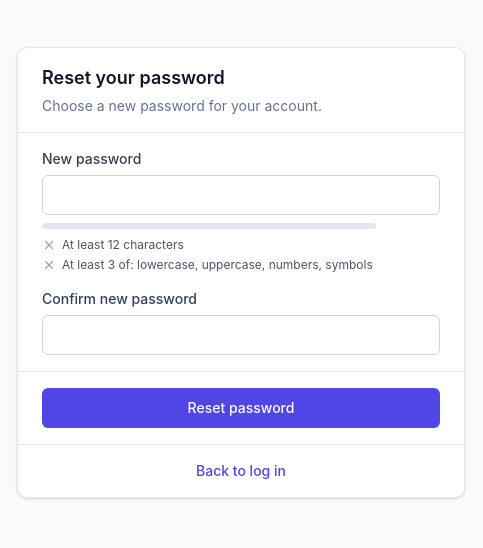
Test case: ResetPasswordPage › TC-14: an expired token shows "expired or invalid"
This screenshot has width=483, height=548.
Type "CorrectHorse1!" into the password field labelled "New password".
click(241, 194); type("CorrectHorse1!")  # box [42,174,440,214]
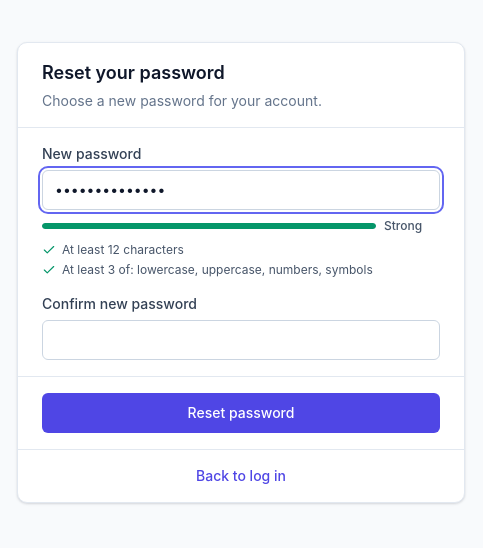
Type "CorrectHorse1!" into the password field labelled "Confirm new password".
click(241, 340); type("CorrectHorse1!")  # box [42,320,440,360]
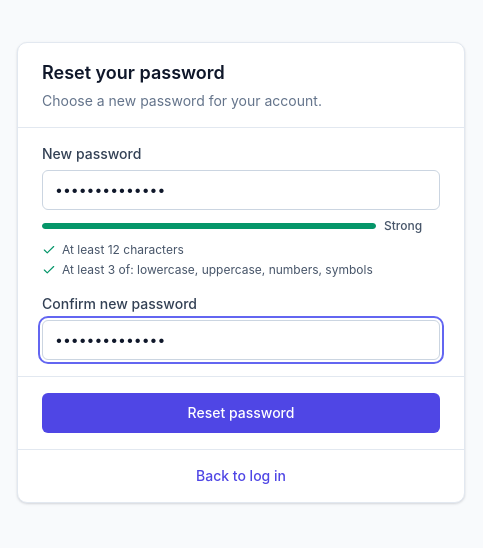
Click the button "Reset password".
click(241, 412)  # box [42,392,440,432]
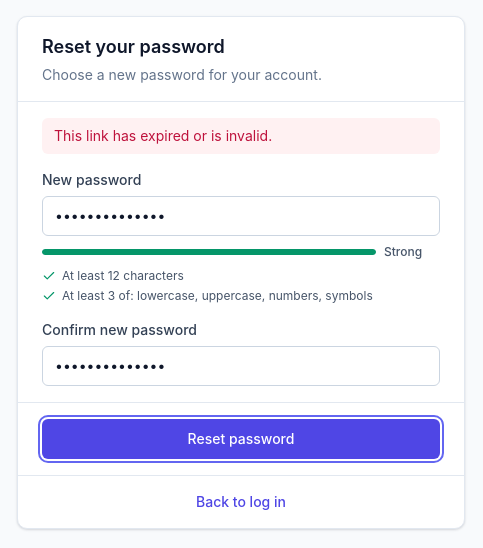
Expected: the message reads "This link has expired or is invalid.", [54,126,272,144]
